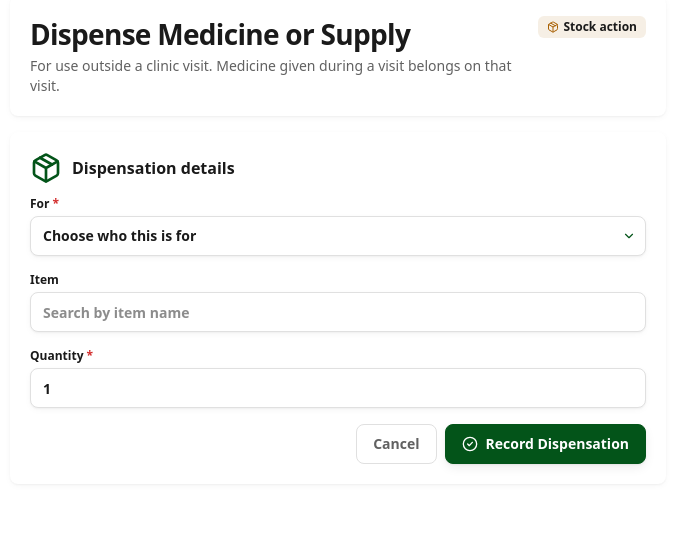
Standalone Dispense › requires choosing a student or general use
Click the button "Record Dispensation" at x=545, y=444, box [444,424,646,464]
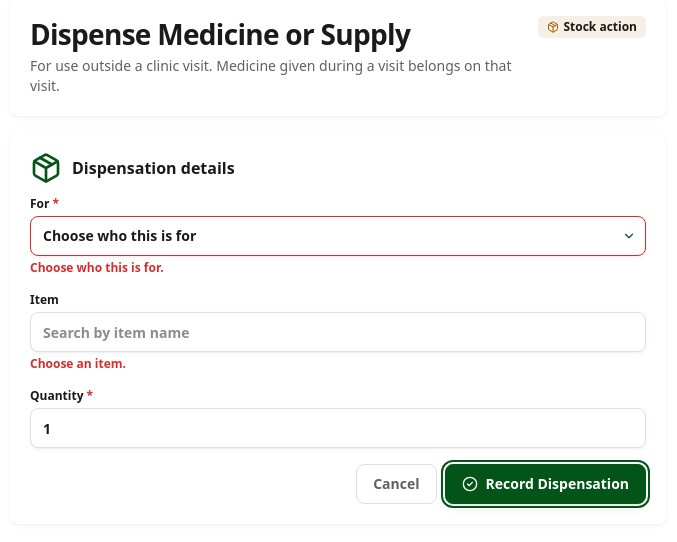
expect the text "Choose who this is for." is shown: met, box [30,259,164,276]
